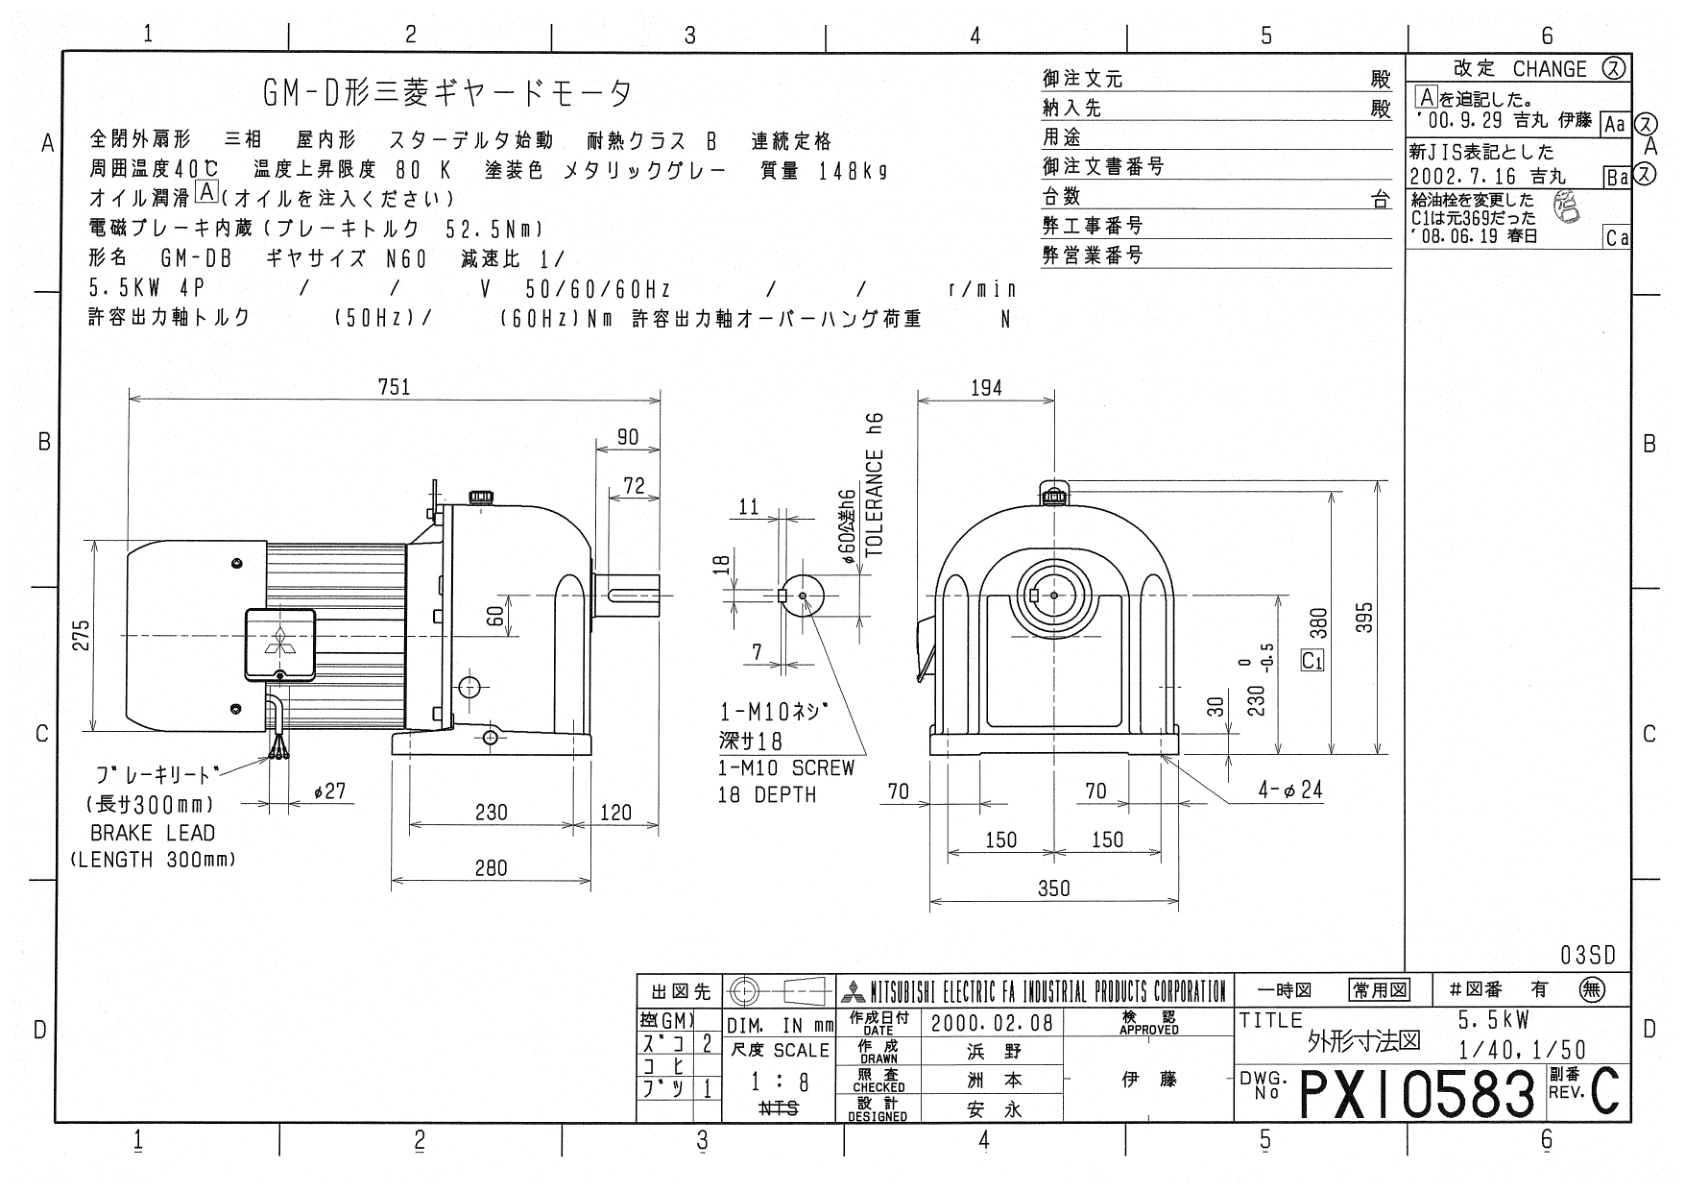GM_D_屋内＿三相_脚: (6, 5, 1685, 1177)
